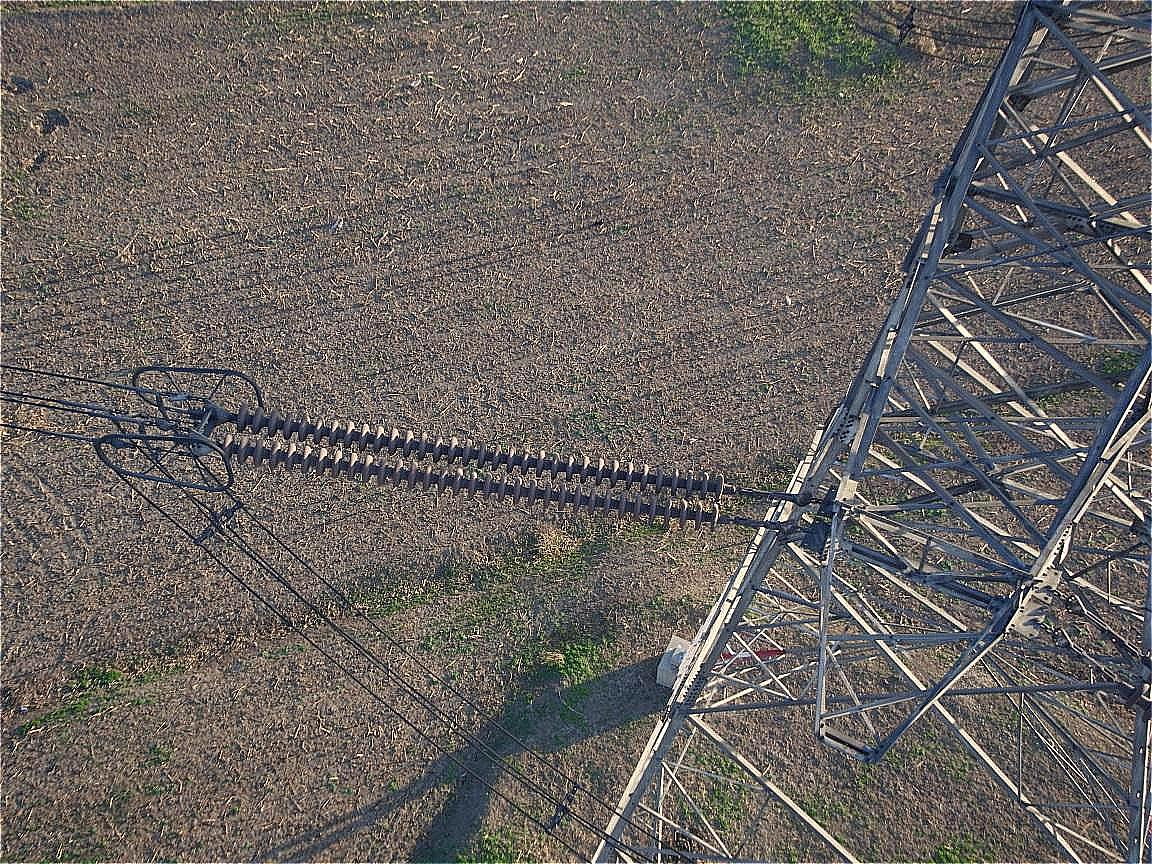insultor1: (178, 389, 760, 536)
